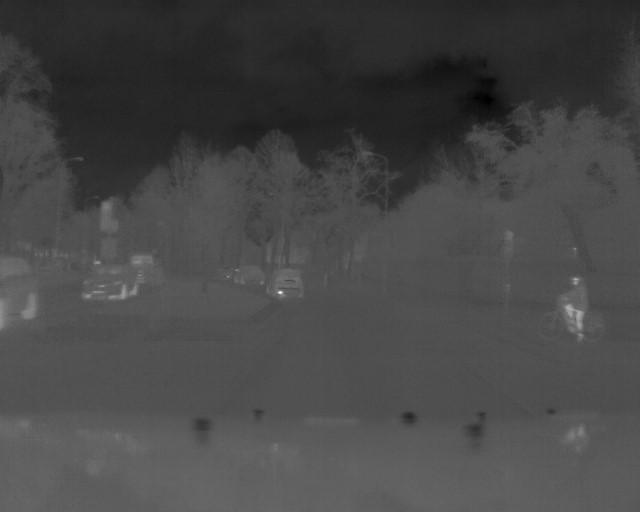car: (1, 254, 44, 321), (76, 261, 141, 300), (266, 265, 304, 298), (235, 263, 264, 288)
person: (558, 274, 592, 348)
